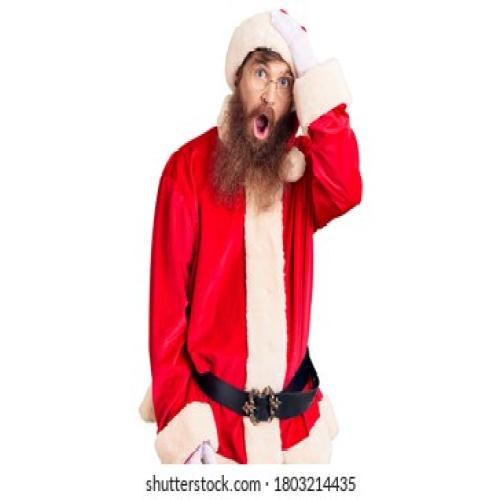Santa: (138, 7, 364, 465)
